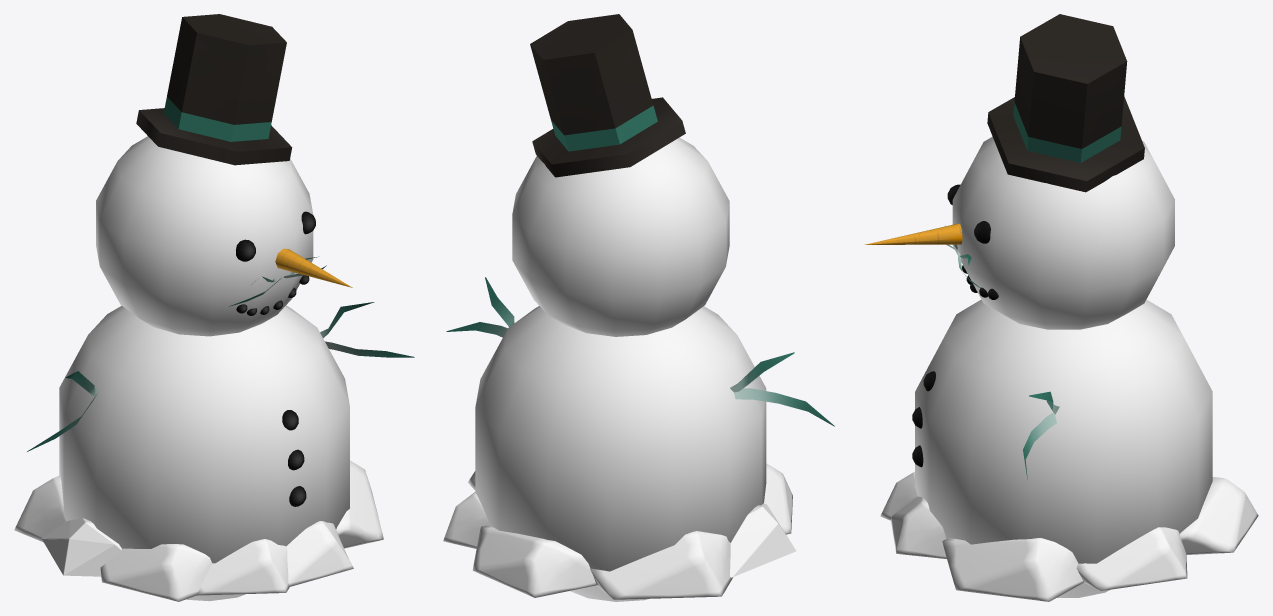
Rendered from Snowman Esq.fbx.
3 renders of one model, left to right at view 1: azimuth 30°, elevation 25°; view 2: azimuth 150°, elevation 25°; view 3: azimuth 270°, elevation 25°, orthographic.
Parts seen in each view (by area): view 1: Snowman Esq.; view 2: Snowman Esq.; view 3: Snowman Esq..
Part boxes in pixels (x1=…): Snowman Esq.: x1=14, y1=14, x2=414, y2=601; Snowman Esq.: x1=443, y1=14, x2=834, y2=601; Snowman Esq.: x1=864, y1=14, x2=1258, y2=601.
Bounding box in the file's own units: 23.01 × 31.62 × 20.03.
